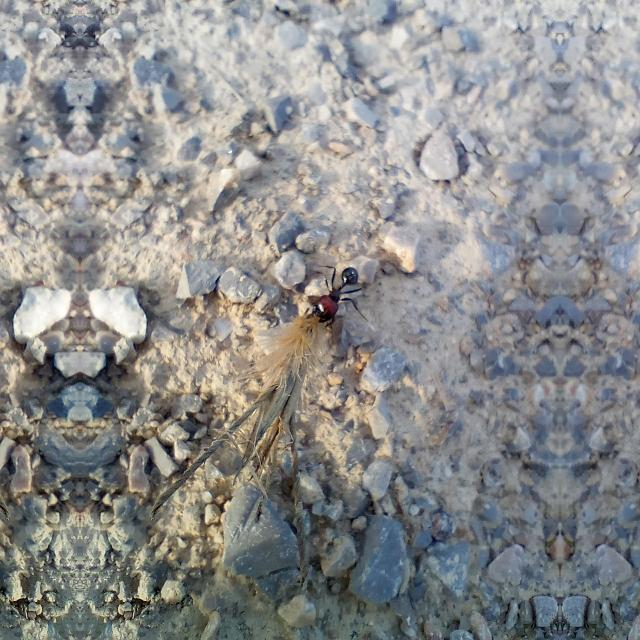Messor: (308, 265, 374, 329)
